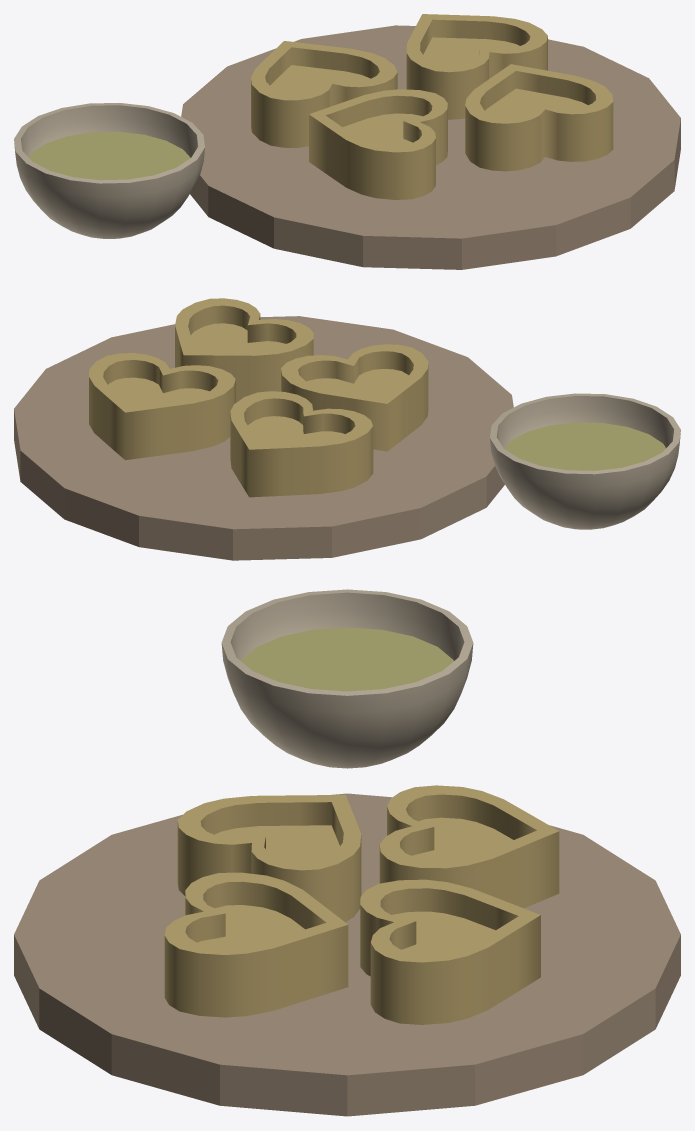
Rendered from choco_5.fbx.
3 views of the same model, one above another, from view 1: azimuth 30°, elevation 25°; view 2: azimuth 150°, elevation 25°; view 3: azimuth 270°, elevation 25° (orthographic). The views are drawn at different scales.
Parts seen in each view (by area): view 1: polySurface514, pSphere15, polySurface512, polySurface513, polySurface516, polySurface515, pSphere14; view 2: polySurface514, pSphere15, polySurface515, polySurface516, polySurface513, polySurface512, pSphere14; view 3: polySurface514, pSphere15, polySurface512, polySurface515, polySurface516, polySurface513, pSphere14.
Boxes of the visible parts, left/top/right/bottom form: polySurface514: left=181, top=25, right=680, bottom=269; pSphere15: left=14, top=103, right=204, bottom=238; polySurface512: left=465, top=64, right=613, bottom=171; polySurface513: left=309, top=89, right=447, bottom=199; polySurface516: left=251, top=41, right=397, bottom=147; polySurface515: left=406, top=14, right=547, bottom=119; pSphere14: left=29, top=131, right=190, bottom=180; polySurface514: left=14, top=316, right=513, bottom=560; pSphere15: left=490, top=393, right=680, bottom=529; polySurface515: left=89, top=353, right=235, bottom=460; polySurface516: left=230, top=391, right=373, bottom=497; polySurface513: left=281, top=344, right=428, bottom=451; polySurface512: left=175, top=298, right=313, bottom=402; pSphere14: left=504, top=422, right=665, bottom=470; polySurface514: left=14, top=793, right=680, bottom=1116; pSphere15: left=221, top=589, right=473, bottom=768; polySurface512: left=164, top=872, right=348, bottom=1017; polySurface515: left=360, top=879, right=540, bottom=1024; polySurface516: left=379, top=785, right=559, bottom=908; polySurface513: left=177, top=795, right=361, bottom=921; pSphere14: left=241, top=627, right=453, bottom=691.
Bounding box in the file's own units: 0.6682 × 0.1011 × 0.4727.
